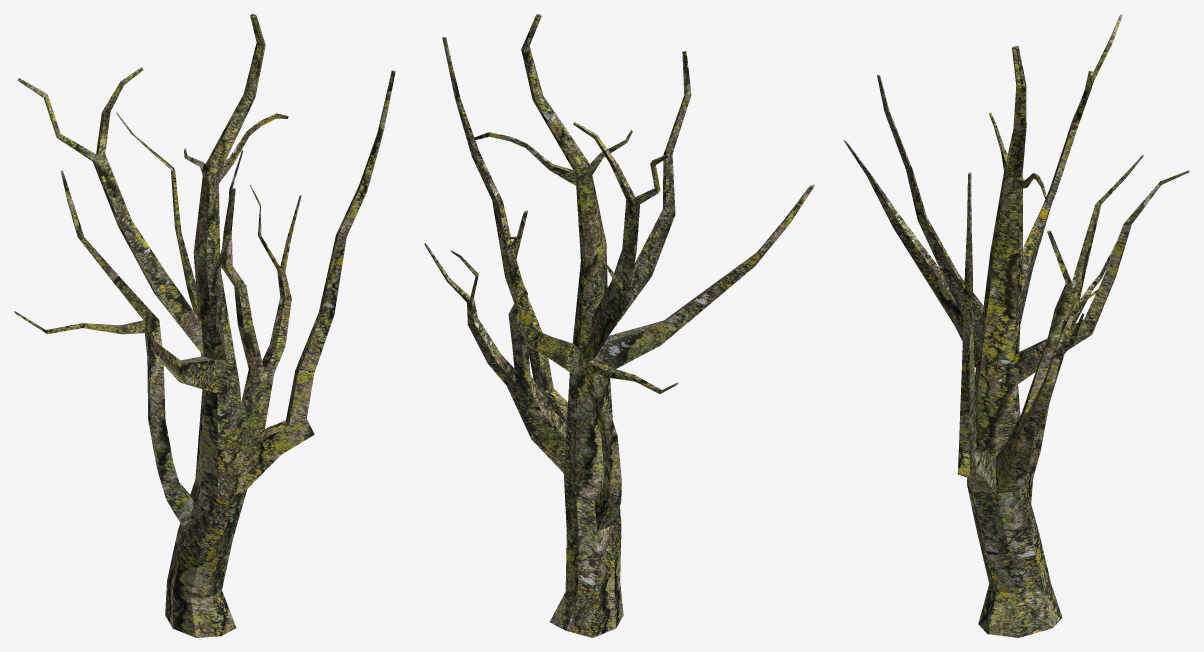
Rendered from tree_1A_fix.obj.
The picture shows the model from 3 angles, left to right: view 1: azimuth 30°, elevation 25°; view 2: azimuth 150°, elevation 25°; view 3: azimuth 270°, elevation 25°; orthographic projection.
Visible parts, largest first — view 1: Tree_Base.005; view 2: Tree_Base.005; view 3: Tree_Base.005.
Boxes of the visible parts, x1,y1,x2,y2 form: Tree_Base.005: (14, 14, 395, 637); Tree_Base.005: (424, 14, 814, 637); Tree_Base.005: (843, 14, 1189, 637).
Bounding box in the file's own units: 10.93 × 19.94 × 10.39.
Materials: 1 (1 with a texture image).
